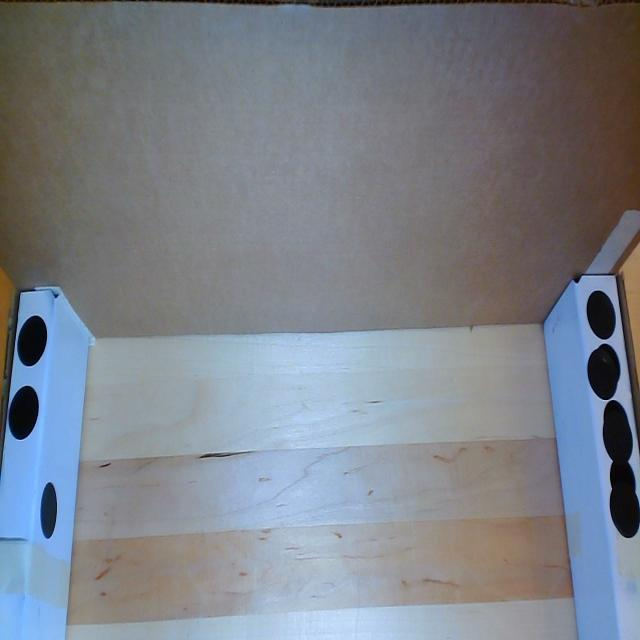Hole: (7, 384, 40, 441), (16, 310, 48, 367), (586, 284, 617, 342), (596, 343, 622, 390), (610, 458, 636, 505), (40, 478, 58, 540), (603, 402, 628, 441)
Sticker: (608, 481, 640, 541), (601, 414, 634, 465), (588, 346, 618, 402)
